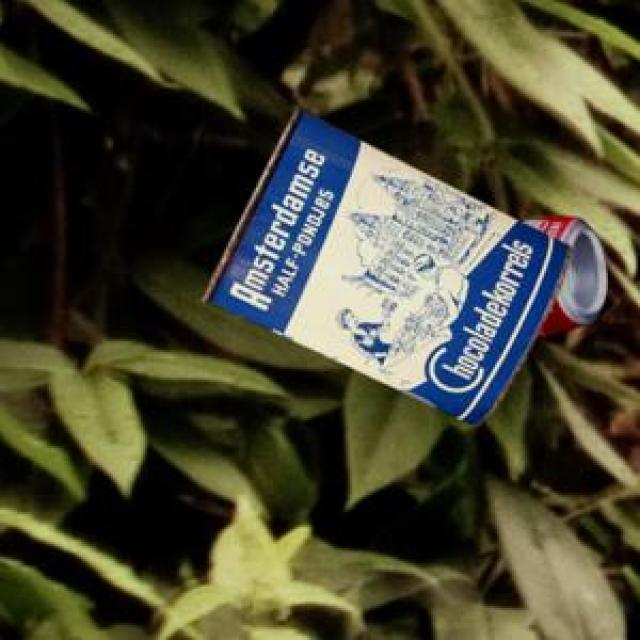logam: (199, 106, 569, 423), (519, 214, 603, 334)
